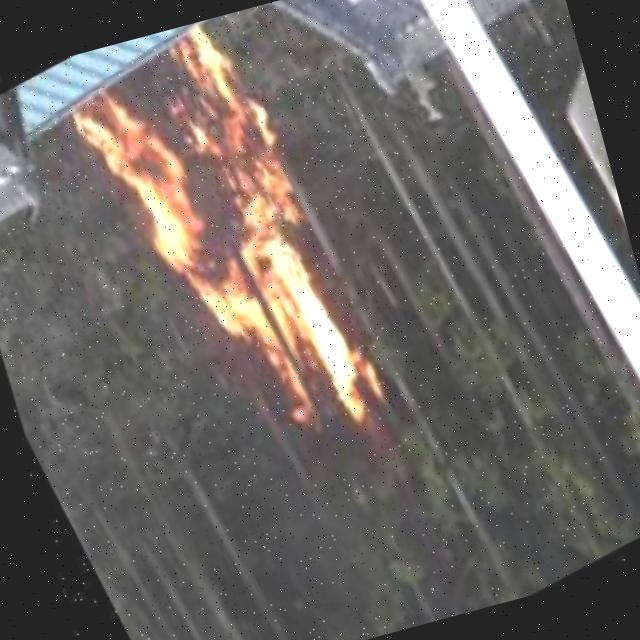fire: (48, 7, 415, 505)
